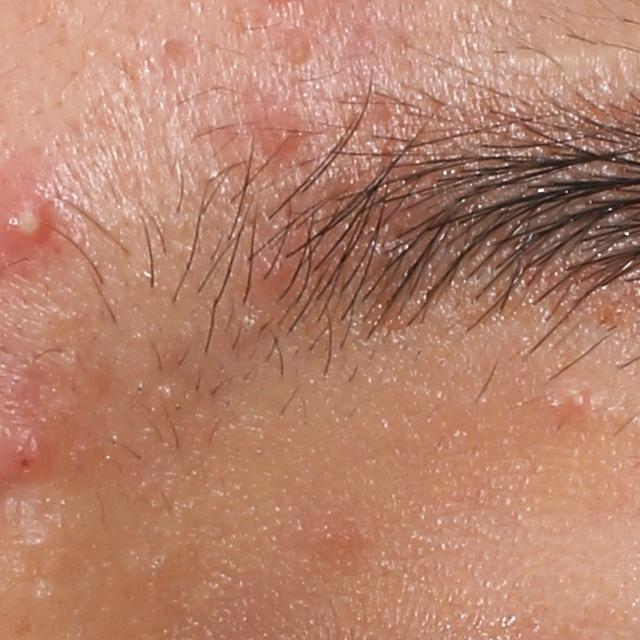comedo: (290, 34, 309, 65)
papule: (246, 240, 292, 298), (268, 120, 304, 158), (565, 391, 591, 419)
